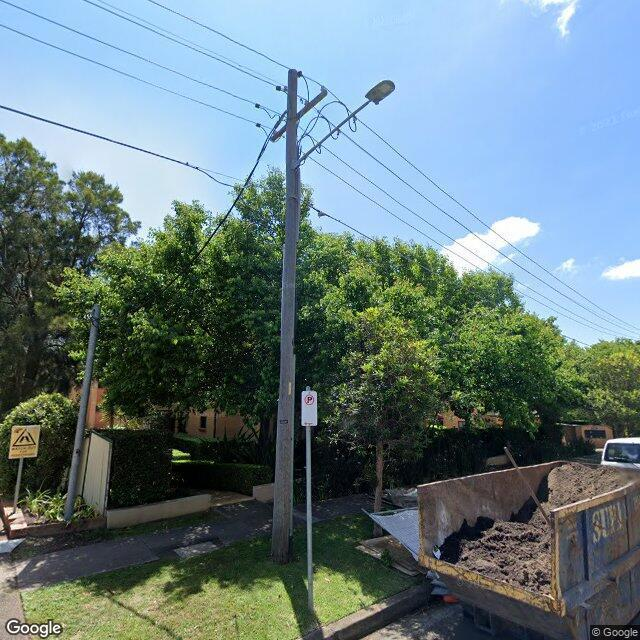crossarm: (269, 88, 329, 143)
steel-pole: (64, 303, 102, 521)
streetlight: (293, 79, 396, 169)
timber-pole: (270, 70, 301, 561)
